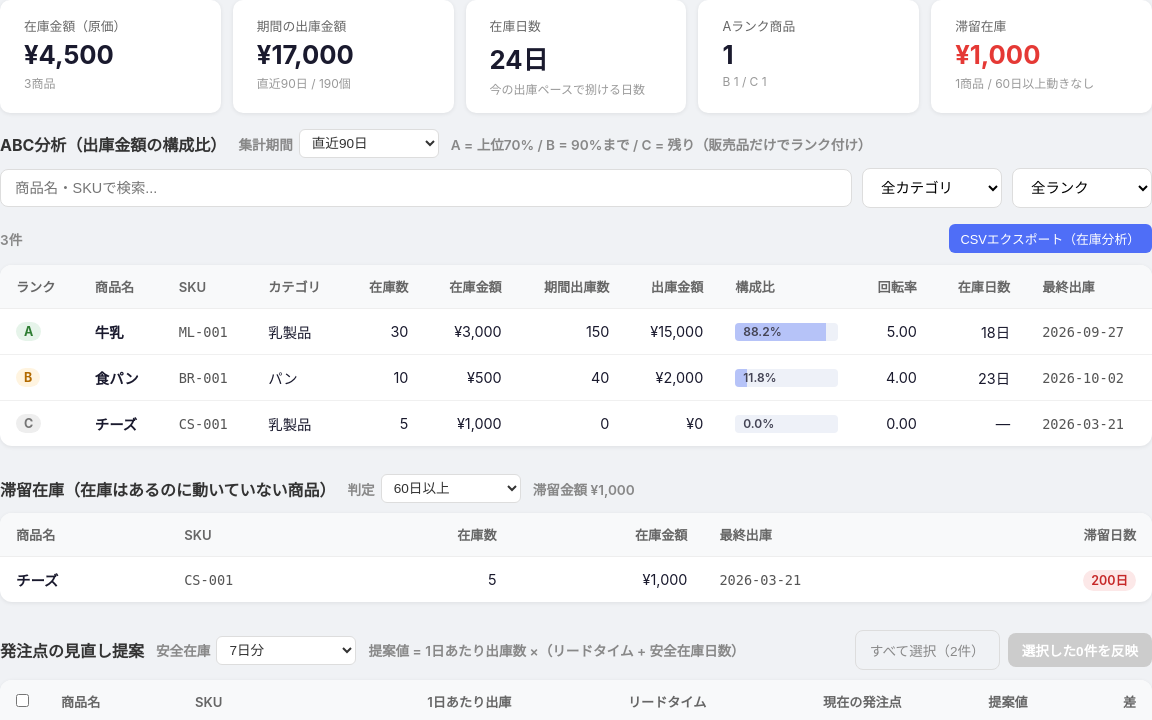
Scenario: StockAnalysisView — 発注点の見直し提案 › 安全在庫日数を変えると提案値が変わる
Select "14日分" in the dropdown labelled "安全在庫" at (286, 650), box [216,636,356,664]
(page scrolled)
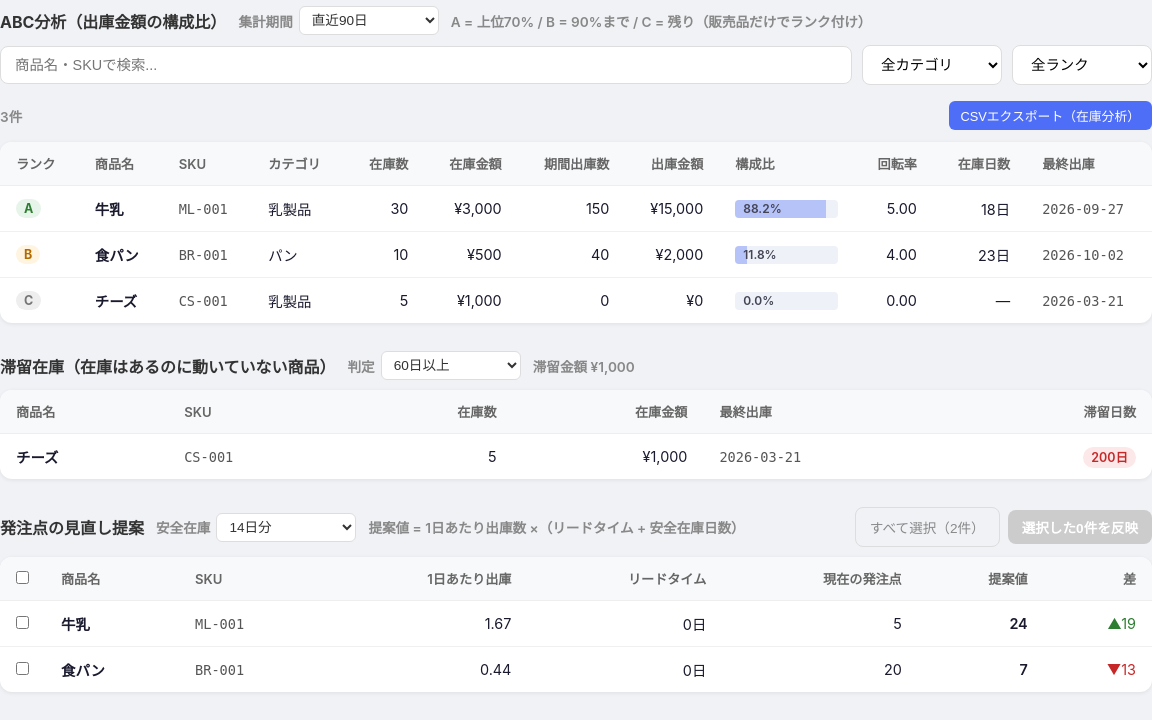
Now the text "24" is shown, box [918,600,1044,646]
